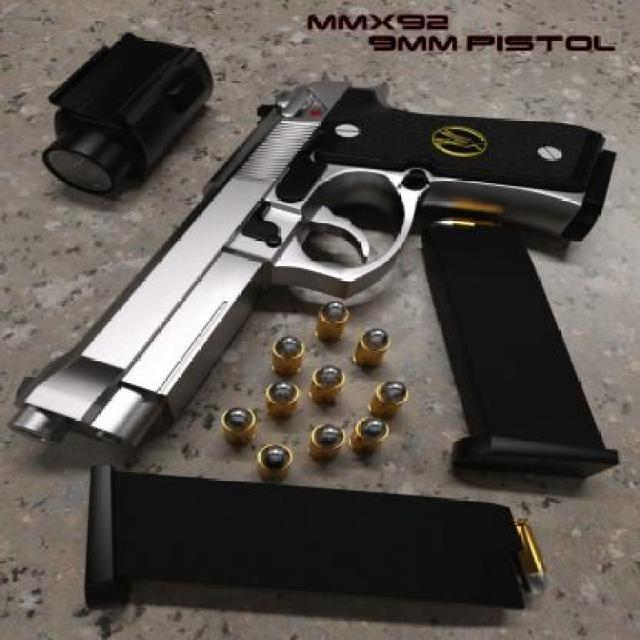Pistol: (1, 57, 624, 566)
